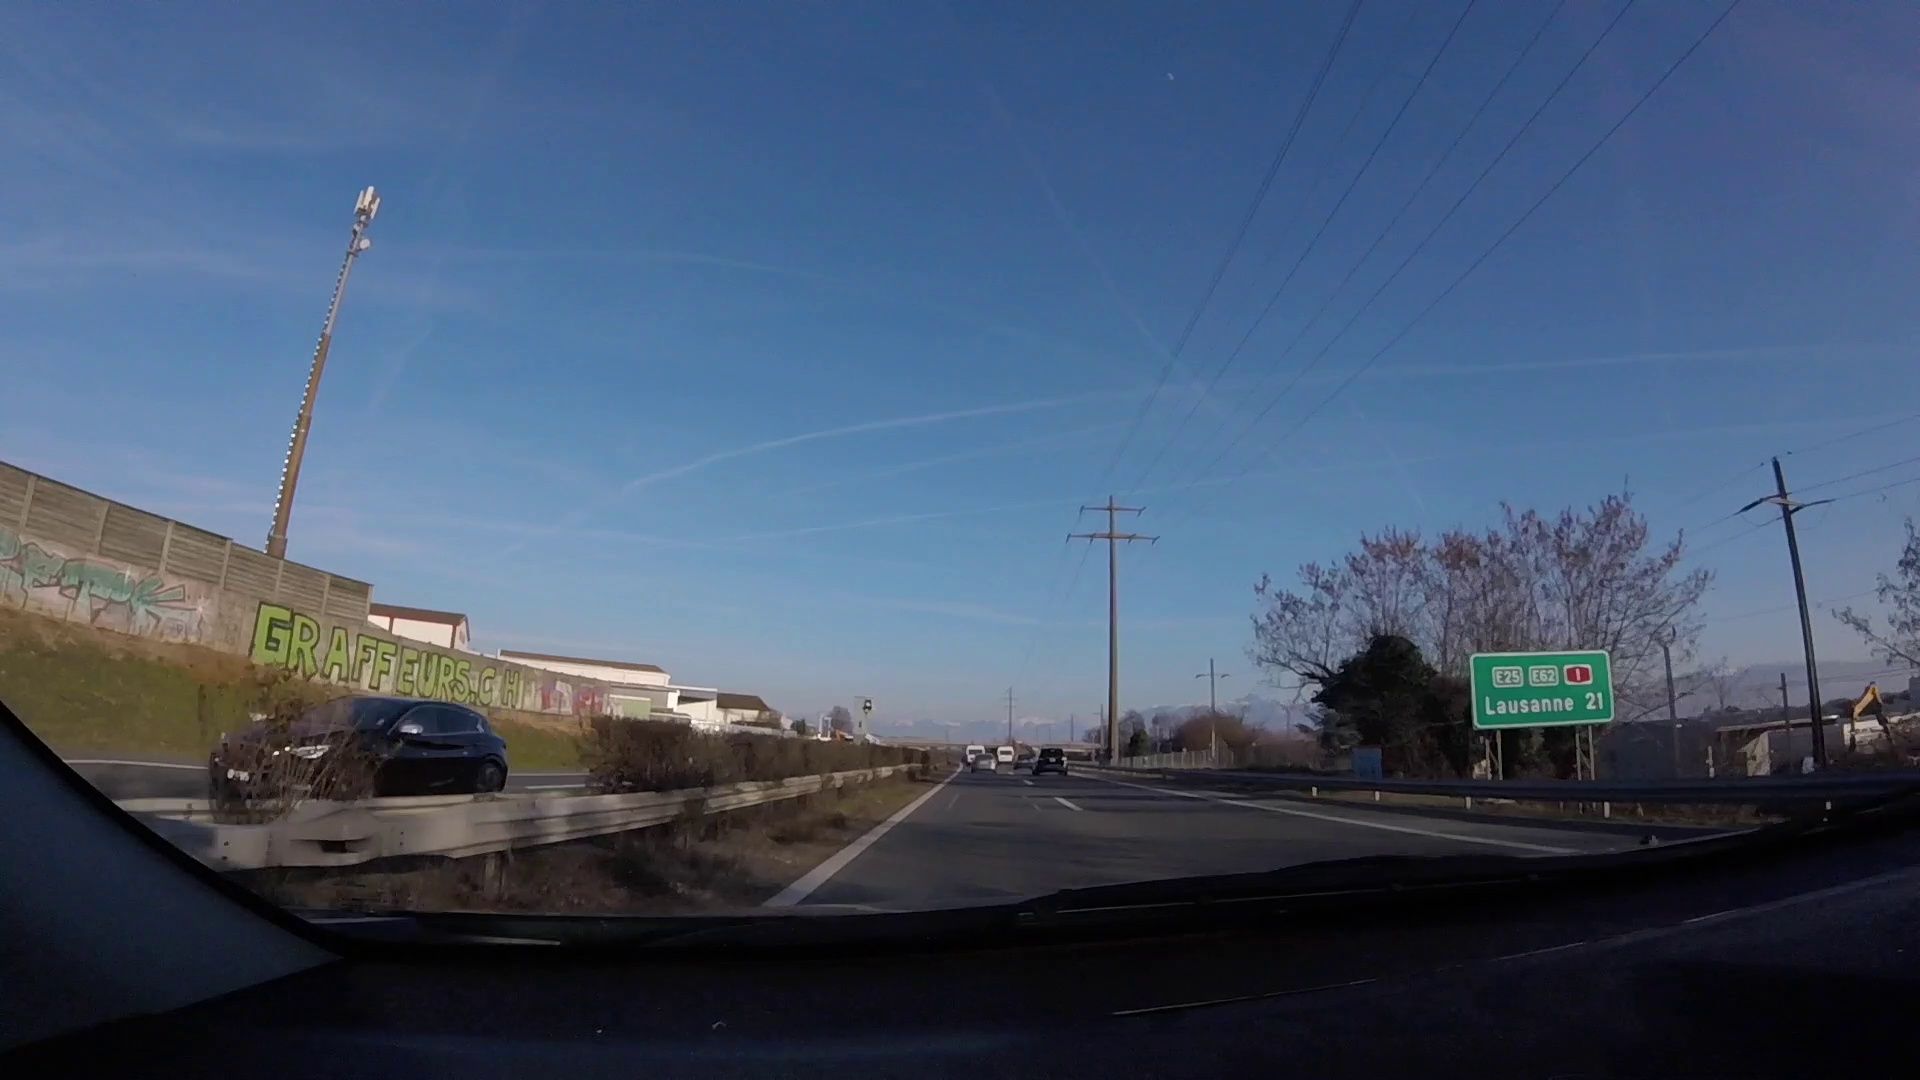radar: (852, 695, 878, 752)
